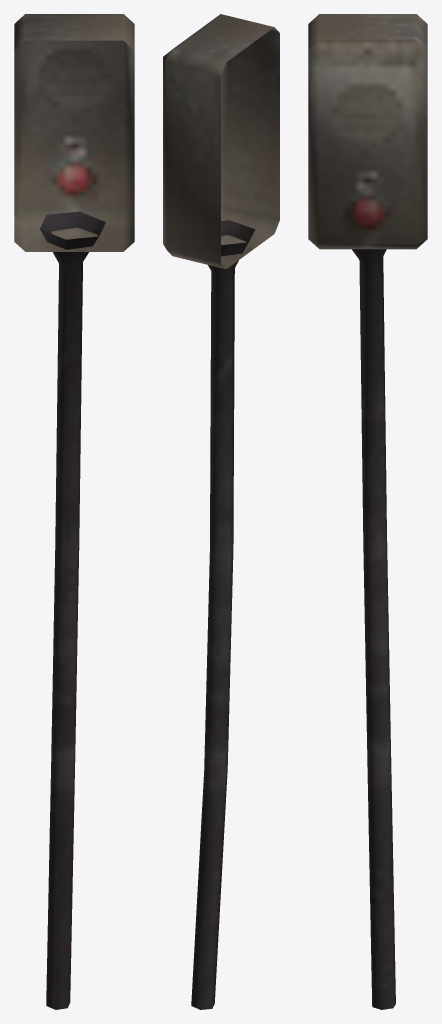
Rendered from DoorSpeaker.FBX.
The picture shows the model from 3 angles, left to right: view 1: azimuth 90°, elevation 25°; view 2: azimuth 150°, elevation 25°; view 3: azimuth 270°, elevation 25°; orthographic projection.
Parts seen in each view (by area): view 1: DoorSpeaker; view 2: DoorSpeaker; view 3: DoorSpeaker.
Part boxes in pixels (<box>): DoorSpeaker: <box>14,14,134,1009</box>; DoorSpeaker: <box>163,14,279,1009</box>; DoorSpeaker: <box>308,14,427,1009</box>.
Size of the model in its own units: 4.2 by 58.79 by 6.53.
